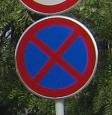No Parking: (17, 18, 99, 102)
